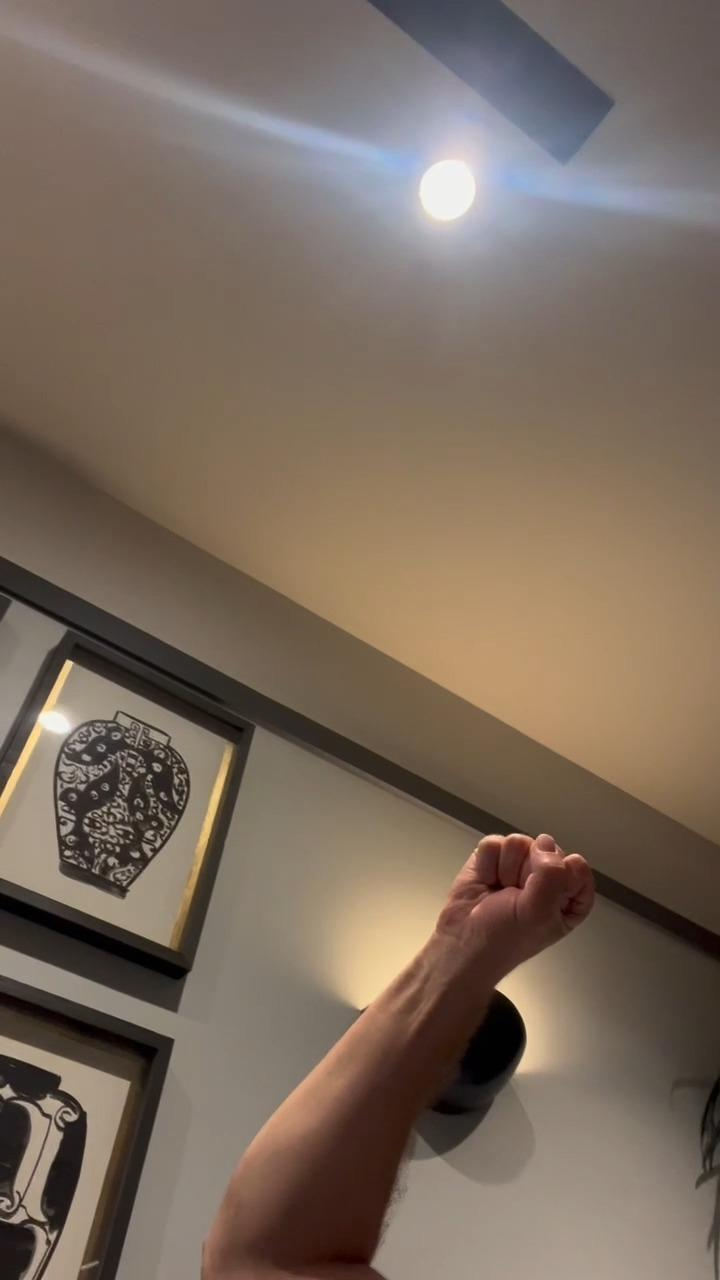Rock: (434, 828, 599, 969)
